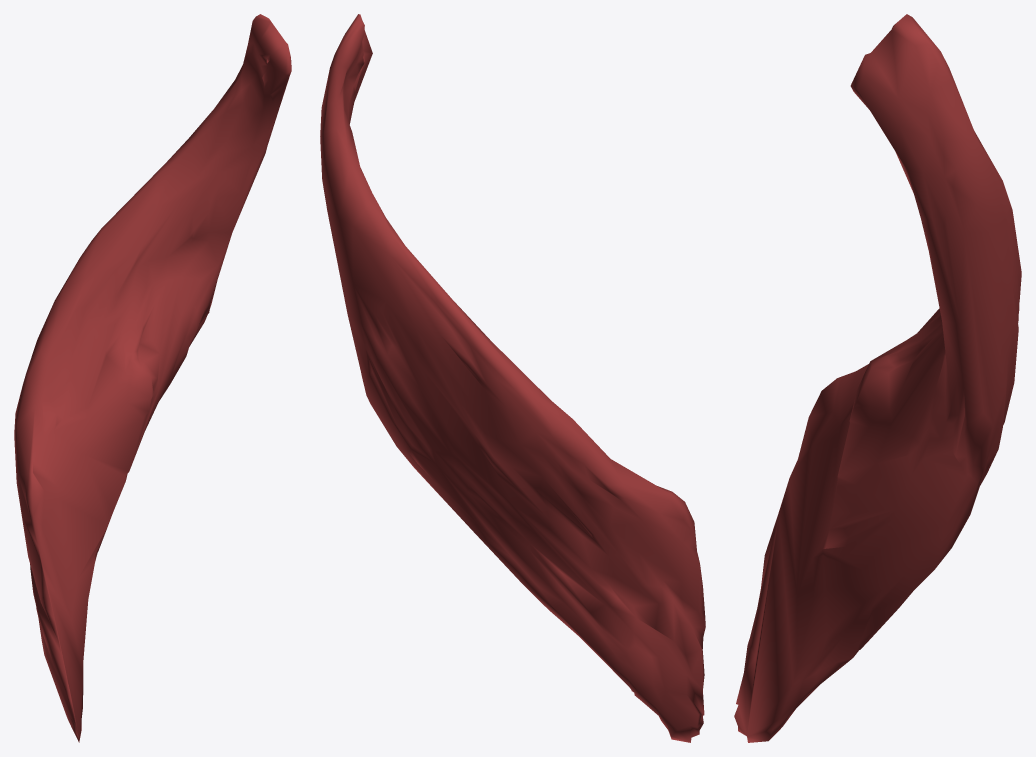
The model's file is popliteus-muscle-l.glb.
3 views of the same model, side by side, from view 1: azimuth 30°, elevation 25°; view 2: azimuth 150°, elevation 25°; view 3: azimuth 270°, elevation 25° (orthographic). The views are drawn at different scales.
Parts seen in each view (by area): view 1: Popliteus muscle.l; view 2: Popliteus muscle.l; view 3: Popliteus muscle.l.
Boxes of the visible parts, x1,y1,x2,y2 form: Popliteus muscle.l: [14, 14, 291, 742]; Popliteus muscle.l: [320, 14, 705, 742]; Popliteus muscle.l: [734, 14, 1021, 742].
Size of the model in its own units: 0.0592 by 0.1251 by 0.0365.
